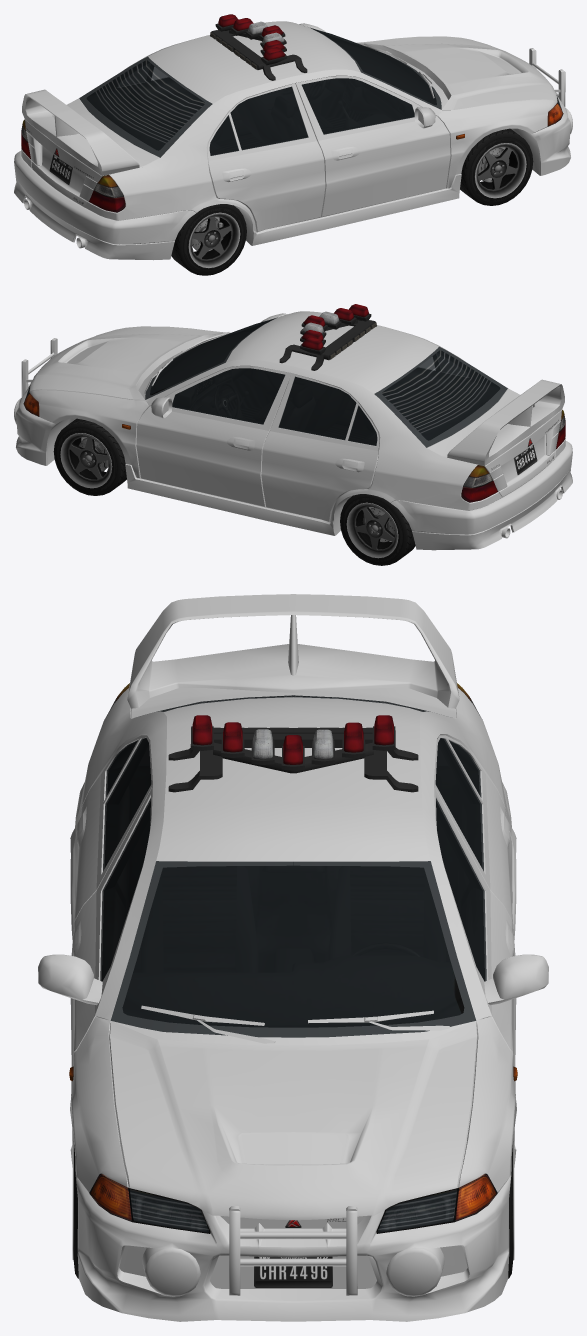
Rendered from Thunderbolt96_Cop.fbx.
3 renders of one model, top to bottom at view 1: azimuth 30°, elevation 25°; view 2: azimuth 150°, elevation 25°; view 3: azimuth 270°, elevation 25°, orthographic. The views are drawn at different scales.
Parts seen in each view (by area): view 1: Thunderbolt96_Body, Thunderbolt96_Interior, Thunderbolt96_Hood, Thunderbolt96_Rear_Glass, Thunderbolt96_Bumper_rear, Thunderbolt96_Bottom, Thunderbolt96_Glass, Thunderbolt96_Spoiler, Thunderbolt96_WheelStock_FR, Thunderbolt96_Glass_Passenger, Thunderbolt96_WheelStock_RR, Thunderbolt96_Trunk_door (+9 smaller); view 2: Thunderbolt96_Body, Thunderbolt96_Interior, Thunderbolt96_Hood, Thunderbolt96_Rear_Glass, Thunderbolt96_Bumper_rear, Thunderbolt96_Bottom, Thunderbolt96_Glass, Thunderbolt96_Spoiler, Thunderbolt96_Glass_Driver, Thunderbolt96_WheelStock_FL, Thunderbolt96_WheelStock_RL, Thunderbolt96_Trunk_door (+10 smaller); view 3: Thunderbolt96_Body, Thunderbolt96_Interior, Thunderbolt96_Hood, Thunderbolt96_Windshield, Thunderbolt96_Bumper_Front, Thunderbolt96_Spoiler, Thunderbolt96_Bottom, Thunderbolt96_Lightbar, Thunderbolt96_Glass, Thunderbolt96_Headlights, Thunderbolt96_Bumper_Front_Misc, Thunderbolt96_Headlight_Glass (+7 smaller).
Part boxes in pixels (x1,y1,x2,y2): Thunderbolt96_Body: (21, 21, 557, 245); Thunderbolt96_Interior: (87, 32, 436, 154); Thunderbolt96_Hood: (356, 36, 557, 109); Thunderbolt96_Rear_Glass: (79, 56, 212, 157); Thunderbolt96_Bumper_rear: (14, 151, 195, 260); Thunderbolt96_Bottom: (24, 24, 539, 248); Thunderbolt96_Glass: (119, 64, 308, 155); Thunderbolt96_Spoiler: (22, 89, 139, 175); Thunderbolt96_WheelStock_FR: (460, 128, 533, 205); Thunderbolt96_Glass_Passenger: (301, 78, 414, 134); Thunderbolt96_WheelStock_RR: (171, 204, 246, 275); Thunderbolt96_Trunk_door: (25, 98, 159, 207); Thunderbolt96_Body: (29, 311, 565, 535); Thunderbolt96_Interior: (150, 321, 499, 444); Thunderbolt96_Hood: (29, 326, 229, 400); Thunderbolt96_Rear_Glass: (374, 346, 507, 447); Thunderbolt96_Bumper_rear: (391, 441, 572, 550); Thunderbolt96_Bottom: (47, 314, 562, 538); Thunderbolt96_Glass: (278, 354, 467, 445); Thunderbolt96_Spoiler: (447, 379, 564, 465); Thunderbolt96_Glass_Driver: (172, 368, 285, 424); Thunderbolt96_WheelStock_FL: (53, 418, 126, 495); Thunderbolt96_WheelStock_RL: (340, 494, 415, 565); Thunderbolt96_Trunk_door: (427, 388, 561, 497); Thunderbolt96_Body: (38, 688, 548, 1193); Thunderbolt96_Interior: (102, 739, 484, 1026); Thunderbolt96_Hood: (109, 1021, 477, 1220); Thunderbolt96_Windshield: (110, 861, 476, 1037); Thunderbolt96_Bumper_Front: (75, 1174, 511, 1321); Thunderbolt96_Spoiler: (127, 594, 459, 708); Thunderbolt96_Bottom: (42, 697, 544, 1045); Thunderbolt96_Lightbar: (168, 715, 418, 792); Thunderbolt96_Glass: (103, 738, 483, 871); Thunderbolt96_Headlights: (128, 1188, 458, 1233); Thunderbolt96_Bumper_Front_Misc: (119, 1216, 467, 1288); Thunderbolt96_Headlight_Glass: (130, 1190, 456, 1232).
Bounding box in the file's own units: 4.41 × 1.52 × 1.95.
